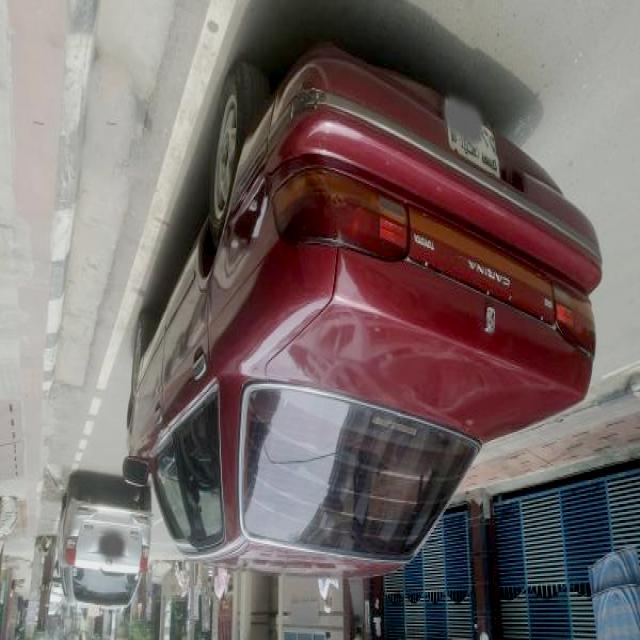maroon: (145, 48, 599, 574)
silver: (58, 469, 143, 610)
